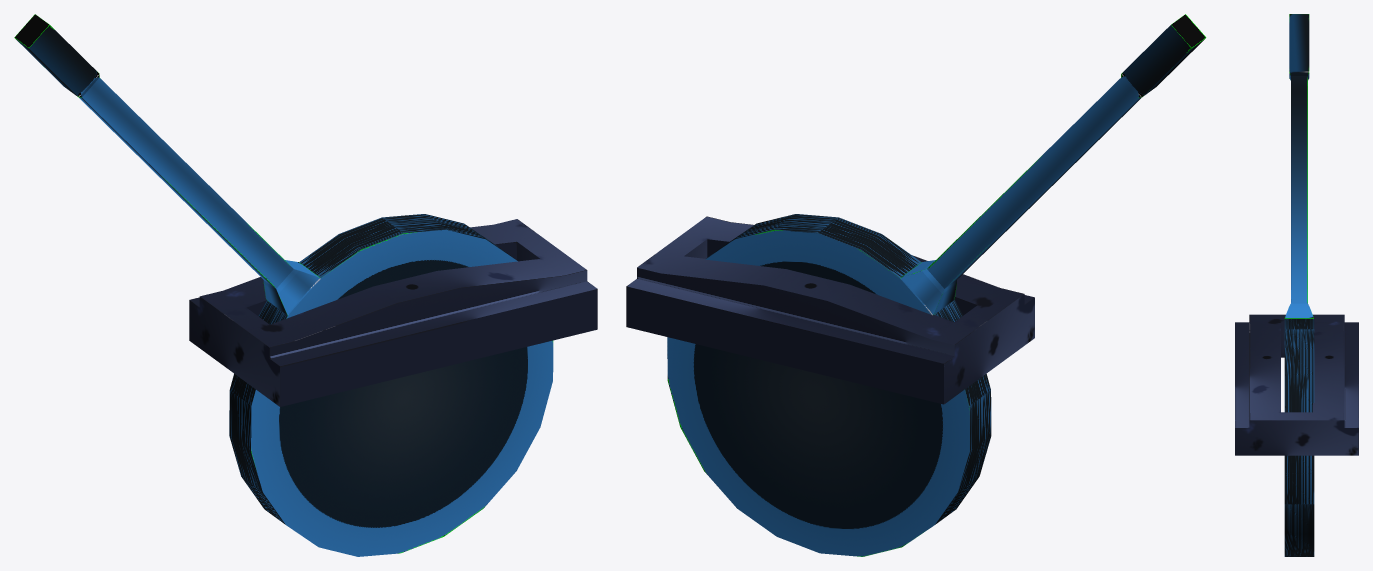
Rendered from Lever.FBX.
3 views of the same model, side by side, from view 1: azimuth 30°, elevation 25°; view 2: azimuth 150°, elevation 25°; view 3: azimuth 270°, elevation 25° (orthographic). The views are drawn at different scales.
Parts seen in each view (by area): view 1: LeverStick, LeverBase; view 2: LeverStick, LeverBase; view 3: LeverBase, LeverStick.
Boxes of the visible parts, left/top/right/bottom form: LeverStick: left=14, top=14, right=553, bottom=556; LeverBase: left=189, top=219, right=597, bottom=406; LeverStick: left=667, top=14, right=1206, bottom=556; LeverBase: left=626, top=216, right=1034, bottom=404; LeverBase: left=1235, top=314, right=1358, bottom=455; LeverStick: left=1284, top=14, right=1314, bottom=556.
Size of the model in its own units: 36.89 by 40.7 by 10.97.
